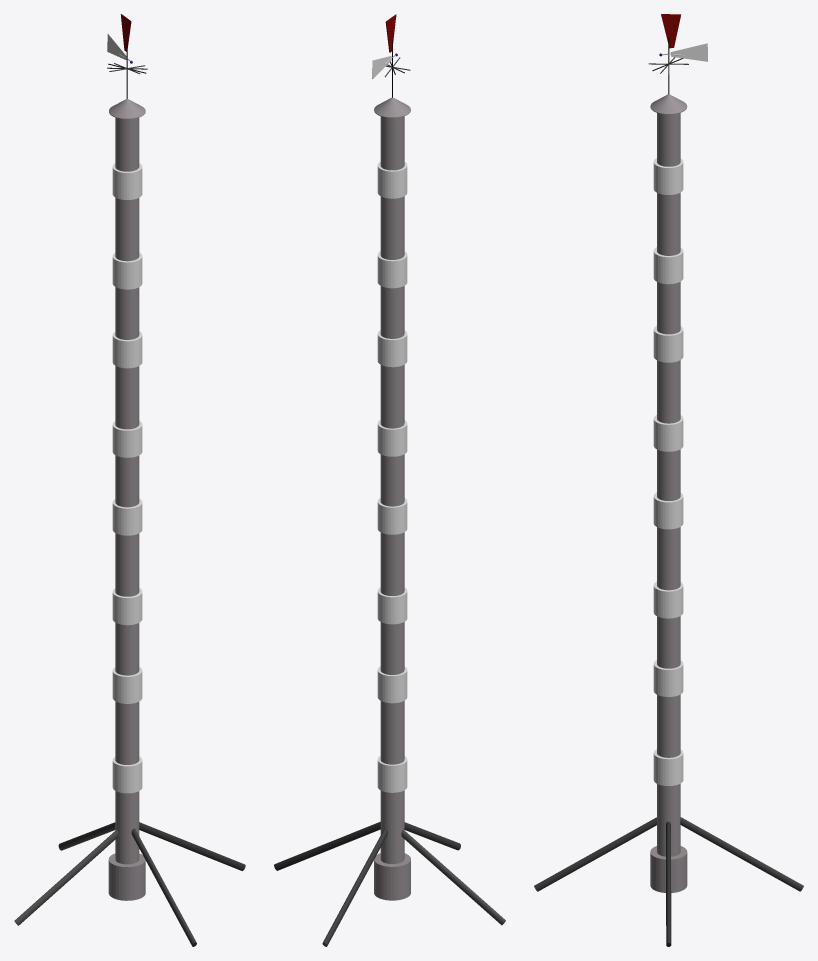
File: ФЛАГШТОК.fbx
3 renders of one model, left to right at view 1: azimuth 30°, elevation 25°; view 2: azimuth 150°, elevation 25°; view 3: azimuth 270°, elevation 25°, orthographic.
Parts seen in each view (by area): view 1: Cylinder, Cylinder.009, Cylinder.013, Cylinder.012, Cylinder.014, Cylinder.015, Cylinder.019, Cylinder.017, Cylinder.018, Cylinder.016, Cylinder.011, Cylinder.008; view 2: Cylinder, Cylinder.009, Cylinder.019, Cylinder.012, Cylinder.017, Cylinder.016, Cylinder.014, Cylinder.015, Cylinder.013, Cylinder.018, Cylinder.011, Cylinder.010; view 3: Cylinder, Cylinder.010, Cylinder.008, Cylinder.013, Cylinder.015, Cylinder.012, Cylinder.014, Cylinder.018, Cylinder.016, Cylinder.019, Cylinder.017, Cylinder.011.
Boxes of the visible parts, <box> form: Cylinder: <box>108,99,145,900</box>; Cylinder.009: <box>14,829,118,925</box>; Cylinder.013: <box>112,588,142,625</box>; Cylinder.012: <box>112,667,142,703</box>; Cylinder.014: <box>112,498,142,535</box>; Cylinder.015: <box>112,421,142,457</box>; Cylinder.019: <box>112,756,142,793</box>; Cylinder.017: <box>112,252,142,289</box>; Cylinder.018: <box>112,331,142,368</box>; Cylinder.016: <box>112,163,142,199</box>; Cylinder.011: <box>139,822,245,870</box>; Cylinder.008: <box>131,828,196,946</box>; Cylinder: <box>374,97,410,900</box>; Cylinder.009: <box>401,829,505,925</box>; Cylinder.019: <box>377,756,407,792</box>; Cylinder.012: <box>377,666,407,703</box>; Cylinder.017: <box>377,251,407,288</box>; Cylinder.016: <box>377,161,407,198</box>; Cylinder.014: <box>377,498,407,534</box>; Cylinder.015: <box>377,420,407,456</box>; Cylinder.013: <box>377,587,407,624</box>; Cylinder.018: <box>377,330,407,367</box>; Cylinder.011: <box>274,821,380,870</box>; Cylinder.010: <box>322,828,387,946</box>; Cylinder: <box>650,94,687,892</box>; Cylinder.010: <box>680,817,803,891</box>; Cylinder.008: <box>534,817,657,891</box>; Cylinder.013: <box>653,581,683,618</box>; Cylinder.015: <box>653,415,683,451</box>; Cylinder.012: <box>653,660,683,696</box>; Cylinder.014: <box>653,492,683,529</box>; Cylinder.018: <box>653,325,683,362</box>; Cylinder.016: <box>653,158,683,194</box>; Cylinder.019: <box>653,749,683,785</box>; Cylinder.017: <box>653,247,683,284</box>; Cylinder.011: <box>666,821,671,946</box>.
Size of the model in its own units: 1096 by 4002 by 1116.
